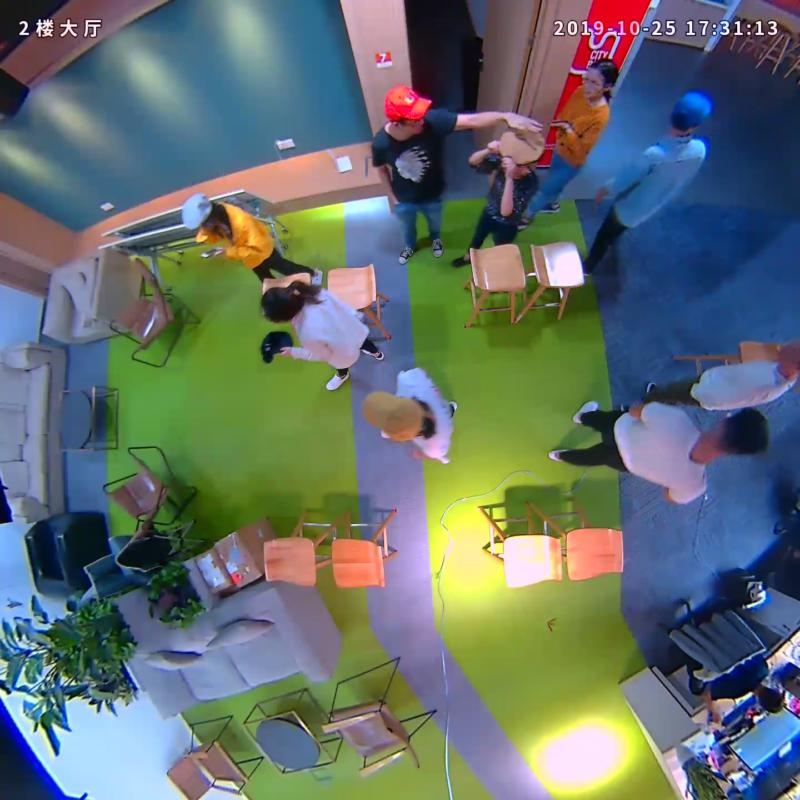head: (360, 389, 430, 442), (706, 407, 768, 458), (499, 123, 546, 177), (383, 84, 432, 134), (668, 91, 712, 133), (261, 286, 302, 323), (584, 58, 618, 101), (182, 193, 218, 232)
